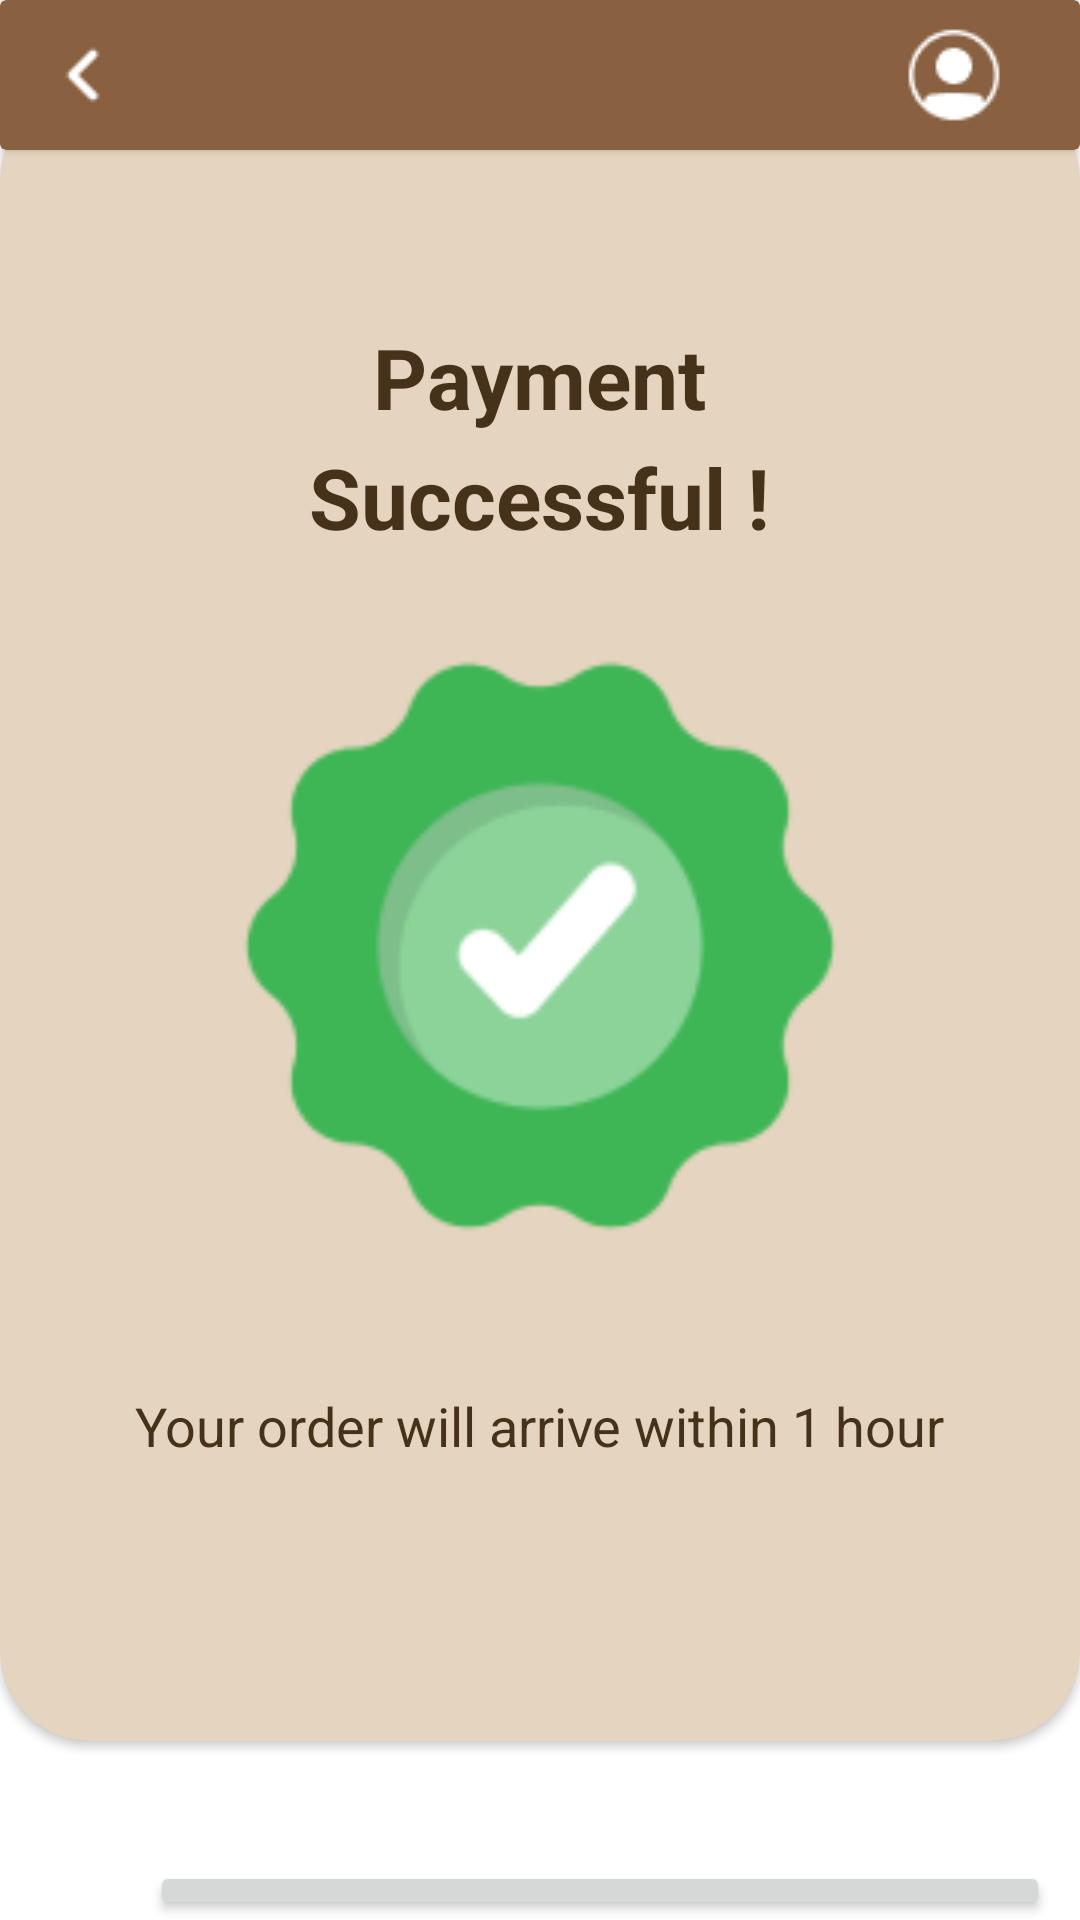

Icons on this 1080px x 1920px Android screen, each with the point to tap as (x,y):
back: (83,75)
user: (954,75)
